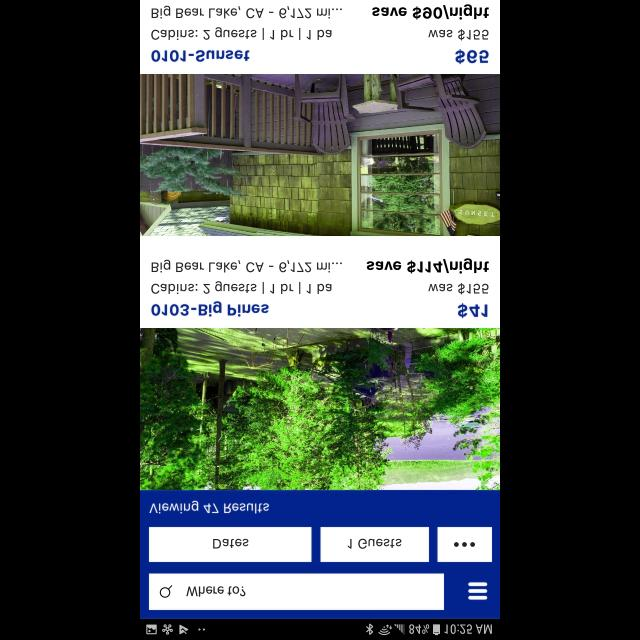icon: (468, 581, 488, 599), (160, 584, 172, 598)
image: (140, 74, 500, 236), (140, 328, 500, 490)
input: (150, 573, 444, 609)
text: (152, 258, 342, 294), (152, 6, 342, 40), (366, 258, 489, 274), (372, 4, 490, 20), (152, 302, 268, 316), (150, 501, 270, 514), (152, 50, 250, 62), (429, 29, 489, 41), (429, 282, 489, 294), (187, 586, 246, 596), (455, 48, 489, 64), (458, 302, 488, 318)
textbutton: (150, 526, 312, 562), (321, 526, 429, 562), (438, 526, 492, 562)
uppertaskbar: (140, 618, 500, 640)
